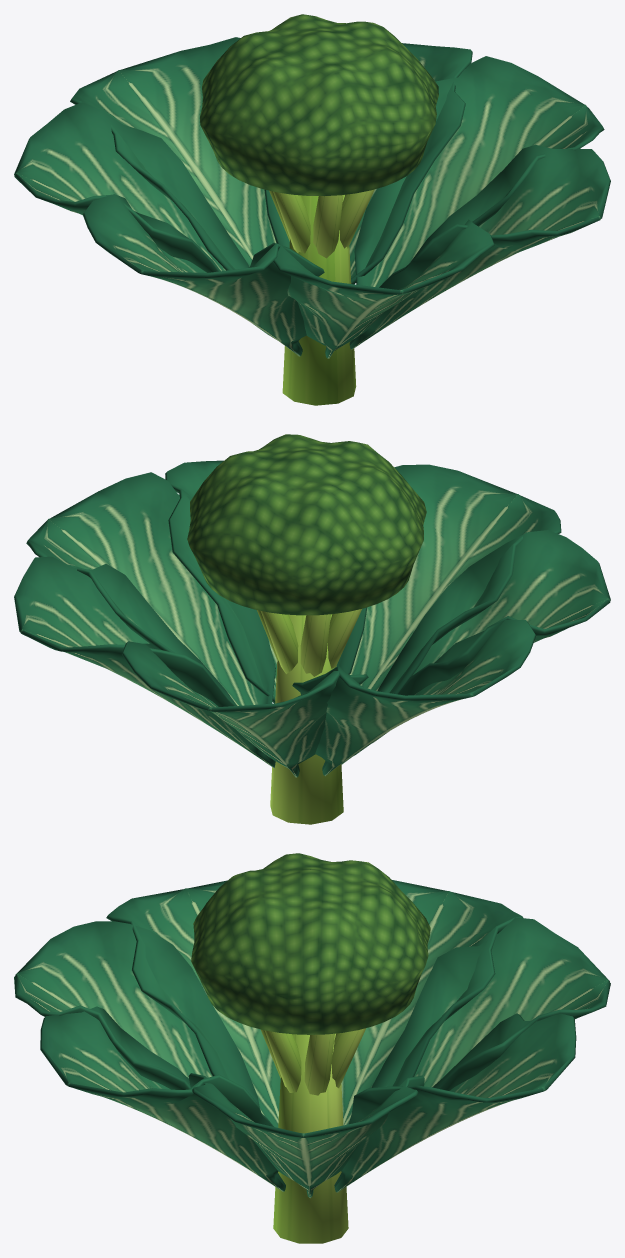
The model's file is NP_Broccoli_HeadForming.fbx.
3 views of the same model, one above another, from view 1: azimuth 30°, elevation 25°; view 2: azimuth 150°, elevation 25°; view 3: azimuth 270°, elevation 25° (orthographic).
Visible parts, largest first — view 1: NP_Broccoli_HeadForming; view 2: NP_Broccoli_HeadForming; view 3: NP_Broccoli_HeadForming.
Boxes of the visible parts, x1,y1,x2,y2 form: NP_Broccoli_HeadForming: [14, 14, 610, 405]; NP_Broccoli_HeadForming: [14, 434, 610, 824]; NP_Broccoli_HeadForming: [14, 853, 610, 1243].
Size of the model in its own units: 61.77 by 40.62 by 61.88.
